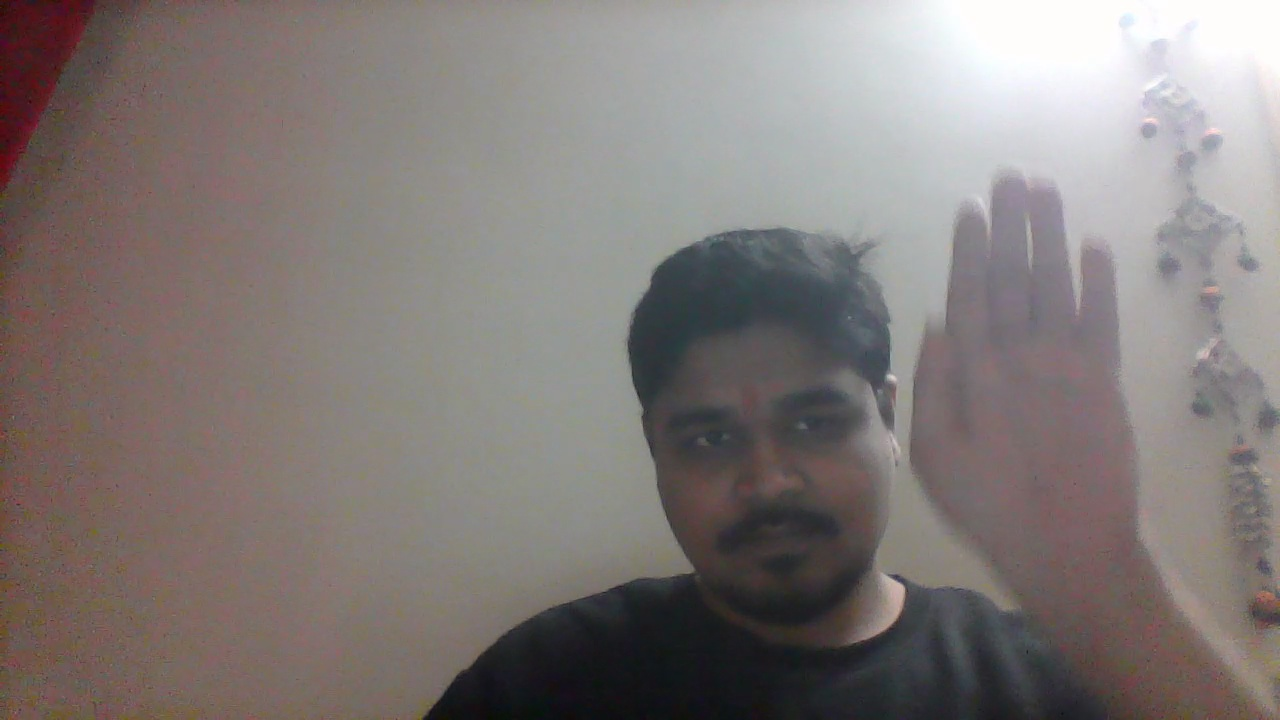Hello: (903, 167, 1148, 595)
